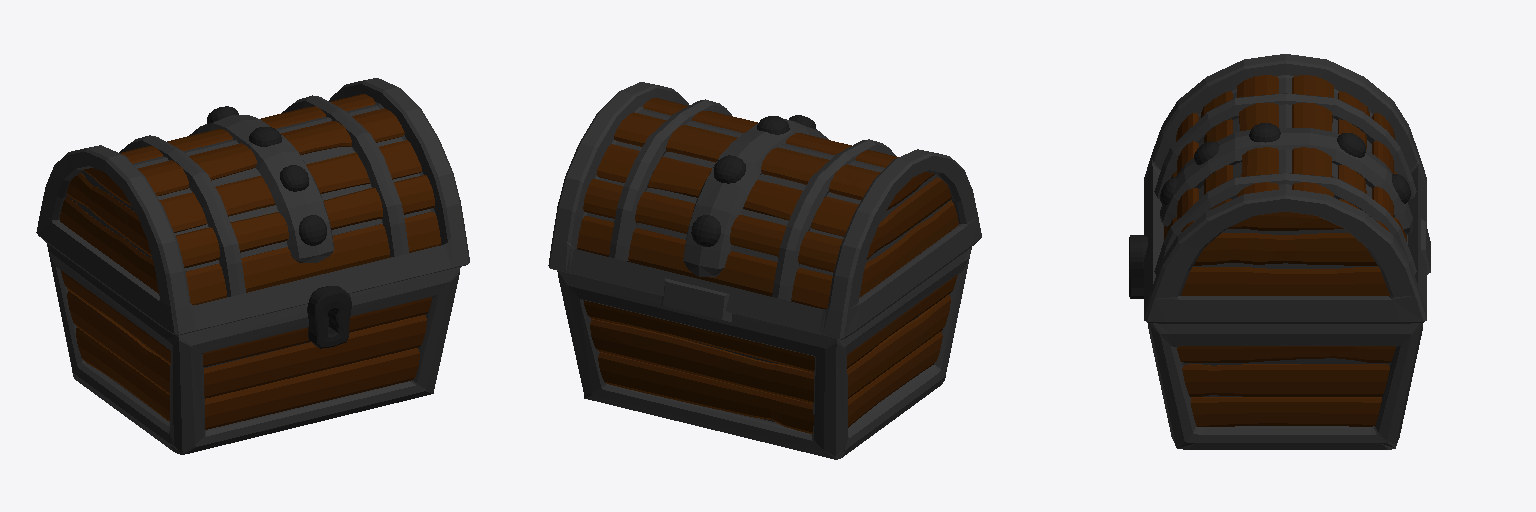
File: Chest.obj
3 views of the same model, side by side, from view 1: azimuth 30°, elevation 25°; view 2: azimuth 150°, elevation 25°; view 3: azimuth 270°, elevation 25° (orthographic).
Parts seen in each view (by area): view 1: Chest_Top_Cube.043, Chest_Bottom_Cube.016; view 2: Chest_Top_Cube.043, Chest_Bottom_Cube.016; view 3: Chest_Top_Cube.043, Chest_Bottom_Cube.016.
Part boxes in pixels (x1,y1,x2,y2): Chest_Top_Cube.043: (36,78,469,335); Chest_Bottom_Cube.016: (47,244,460,454); Chest_Top_Cube.043: (548,82,981,339); Chest_Bottom_Cube.016: (557,247,971,459); Chest_Top_Cube.043: (1144,54,1430,323); Chest_Bottom_Cube.016: (1129,235,1422,449).
Size of the model in its own units: 2.14 by 1.81 by 1.88.